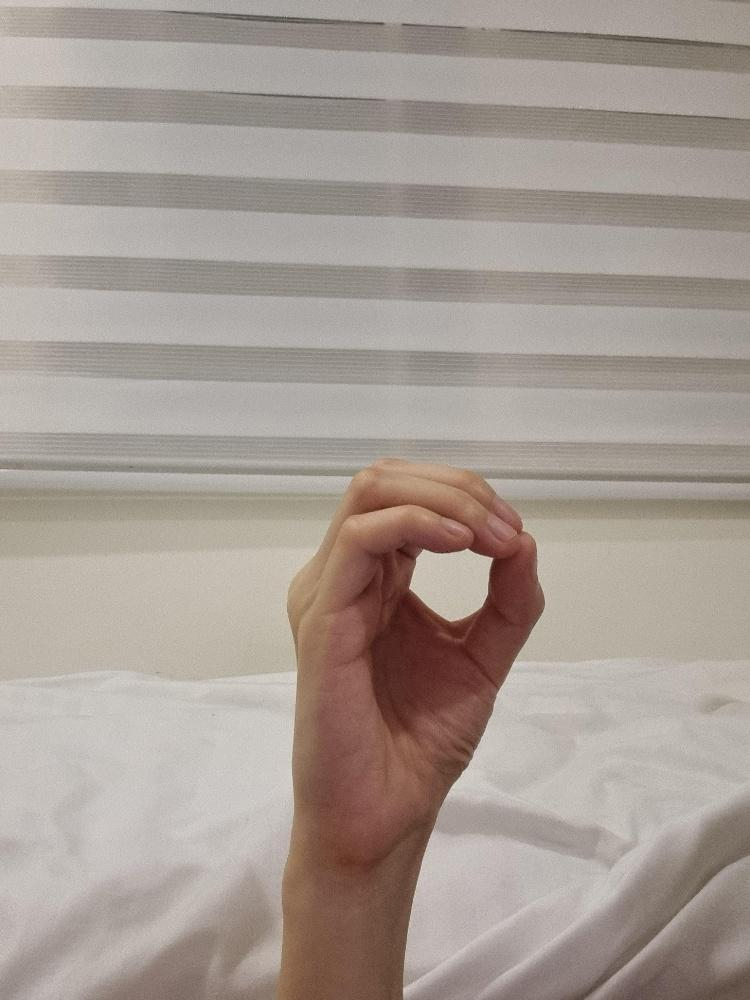o: (286, 457, 547, 867)
